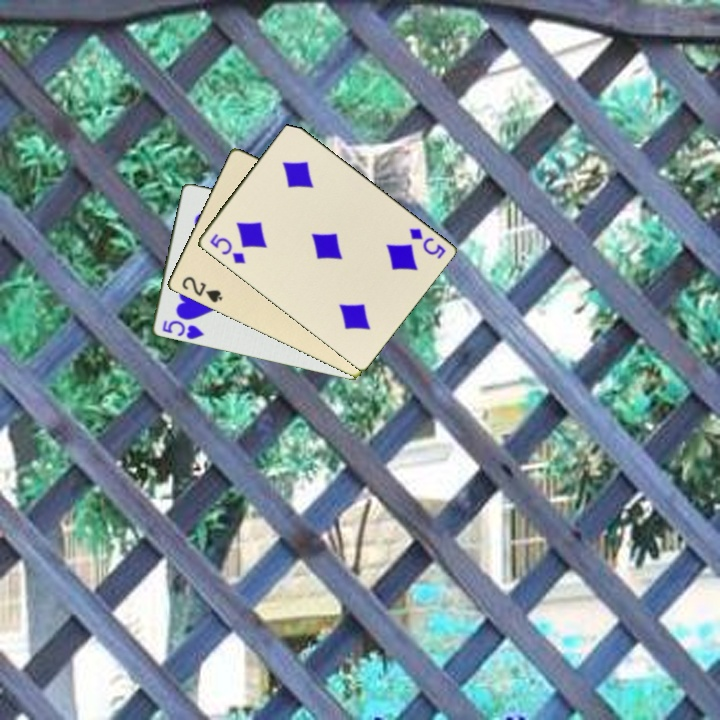2s: (178, 273, 226, 306)
5d: (405, 225, 449, 262), (206, 230, 248, 267)
5h: (158, 317, 207, 343)
